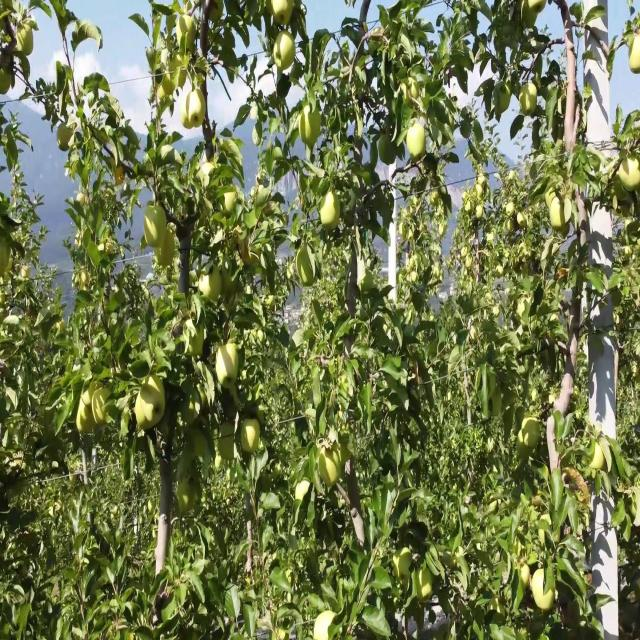apple: (136, 376, 167, 432), (316, 440, 343, 489), (216, 341, 240, 389), (144, 206, 168, 249), (532, 568, 555, 612), (300, 106, 323, 149), (176, 476, 202, 514), (320, 191, 343, 233), (184, 92, 208, 130), (76, 391, 96, 434), (408, 120, 428, 162), (200, 270, 221, 306), (240, 419, 261, 455), (156, 234, 177, 270), (276, 35, 296, 71), (620, 156, 640, 192), (220, 263, 240, 299), (552, 199, 571, 235), (92, 391, 112, 425), (588, 440, 607, 473), (520, 419, 540, 450), (172, 56, 189, 91), (520, 85, 539, 116), (16, 28, 36, 57), (396, 547, 413, 580), (316, 611, 336, 639), (188, 327, 205, 359), (404, 78, 422, 107), (380, 135, 397, 165), (420, 568, 433, 604), (276, 1, 293, 28), (184, 398, 199, 428), (0, 71, 16, 98), (192, 433, 208, 459), (524, 7, 542, 30), (224, 191, 238, 219), (208, 1, 224, 25), (300, 263, 316, 286), (520, 561, 532, 590), (632, 35, 640, 76), (500, 85, 512, 110), (60, 127, 72, 151), (520, 92, 532, 116), (4, 248, 14, 276), (620, 199, 634, 219), (296, 483, 310, 503), (116, 163, 127, 185), (504, 199, 516, 219), (164, 78, 175, 98), (264, 0, 274, 20), (520, 213, 527, 229), (508, 220, 515, 235), (496, 106, 503, 121), (4, 625, 11, 638), (400, 227, 407, 238)
